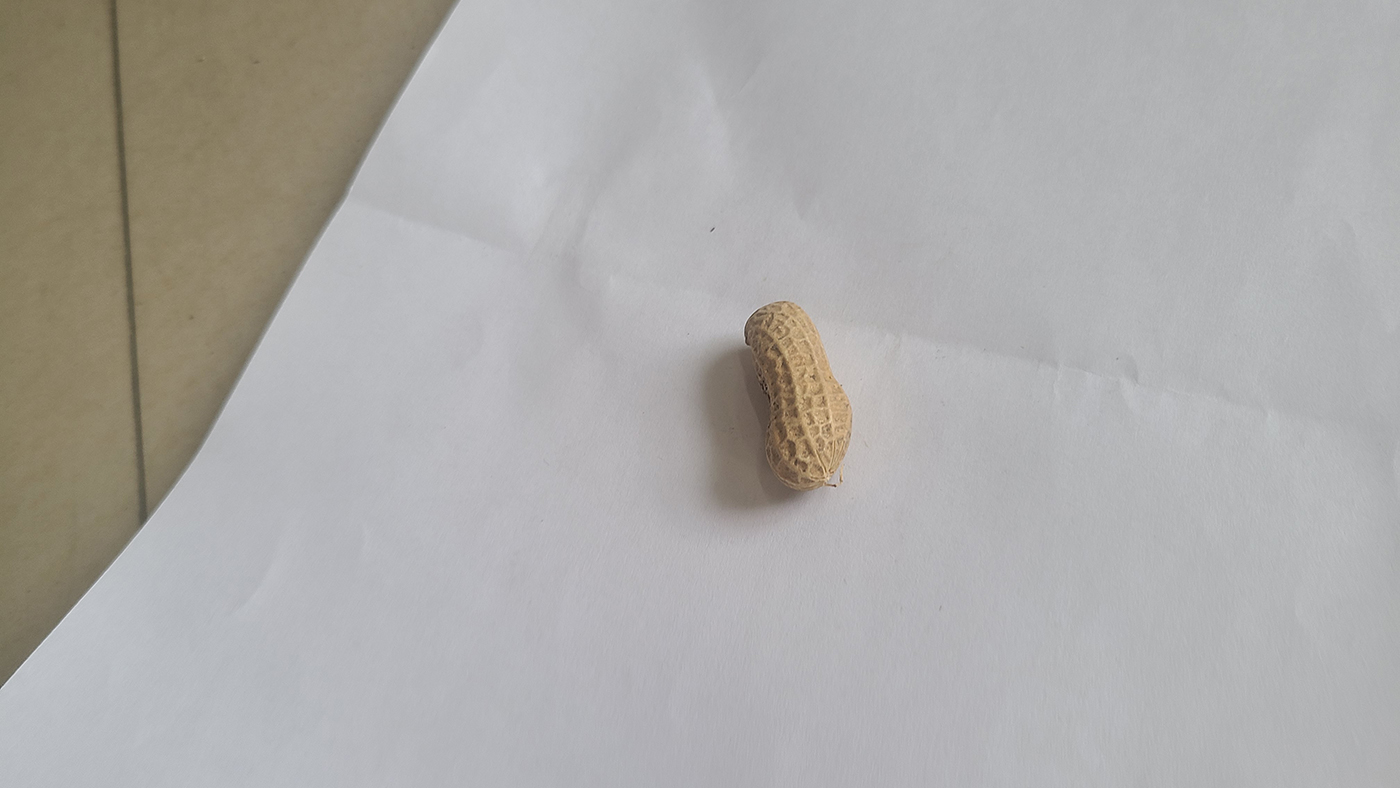h: (744, 298, 854, 492)
